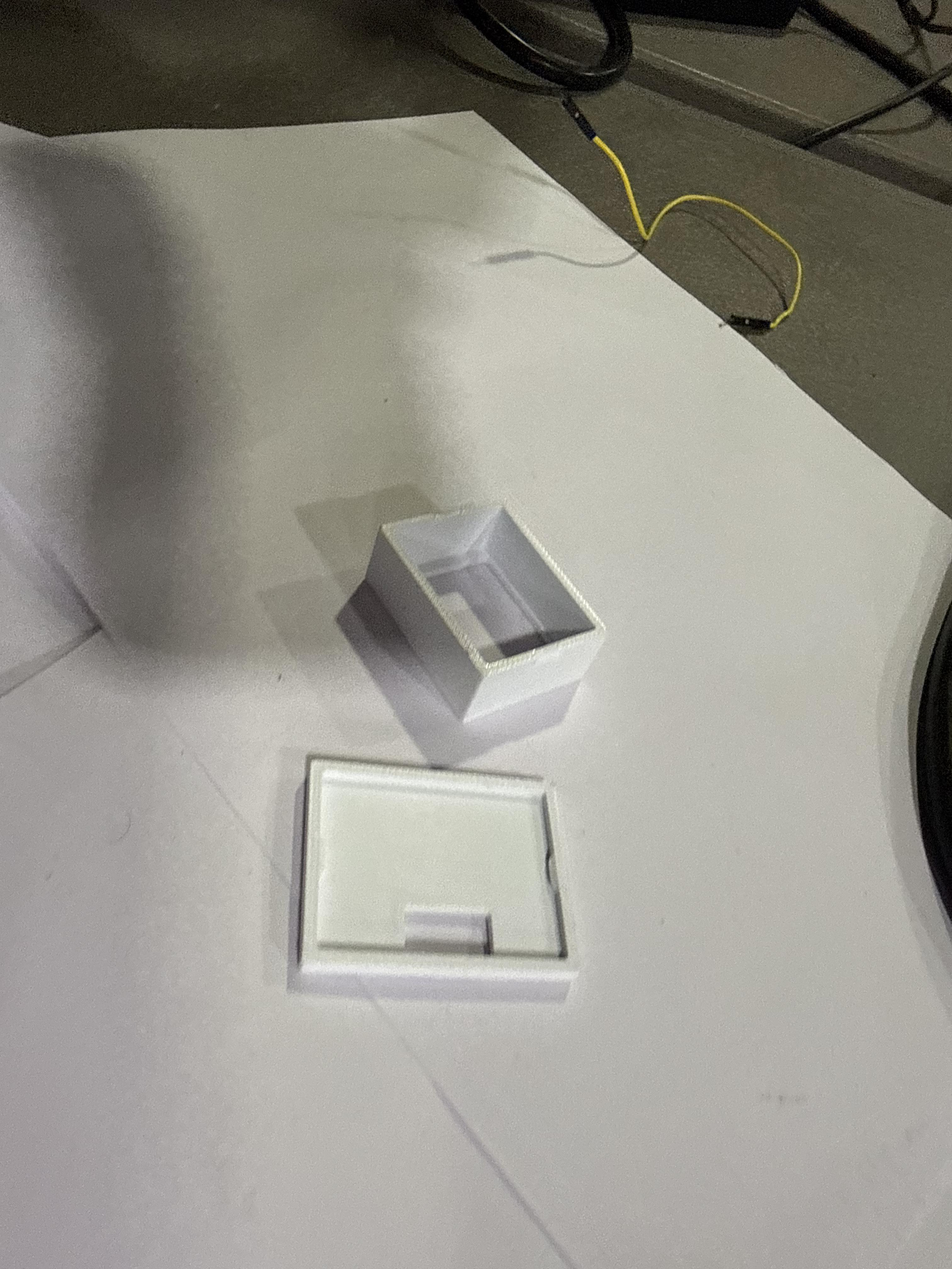enclosure: (294, 736, 590, 993), (334, 502, 606, 767)
